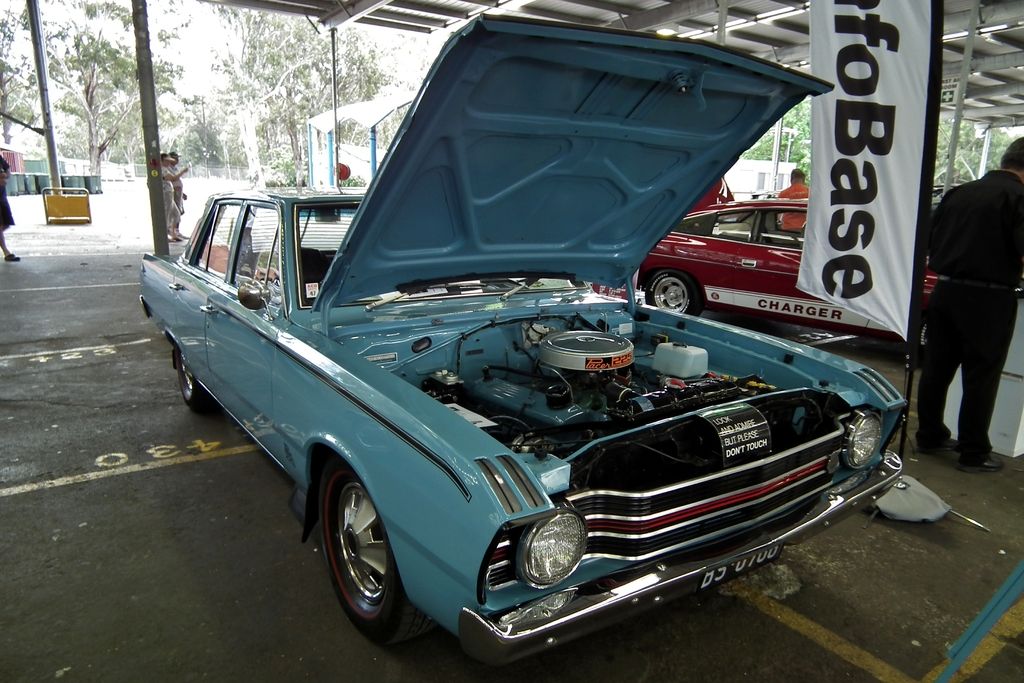Car: (138, 7, 908, 658), (640, 198, 936, 354)
